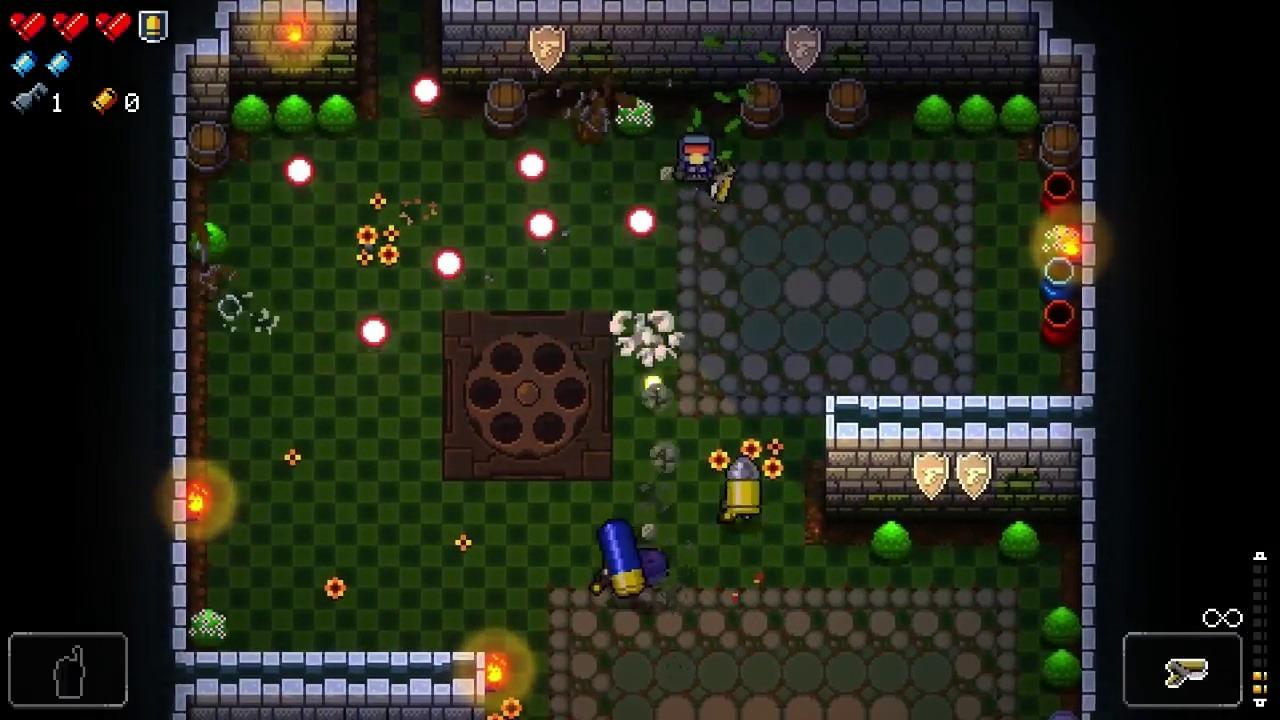blue_shotgun_kin: (597, 518, 647, 598)
bullet: (517, 150, 547, 182), (285, 156, 315, 187), (433, 249, 464, 279), (528, 210, 557, 241), (627, 207, 656, 238), (411, 77, 441, 105), (360, 318, 389, 346)
bullet_kin: (725, 454, 762, 519)
player: (678, 132, 716, 185)
teleporter: (443, 310, 614, 480)
